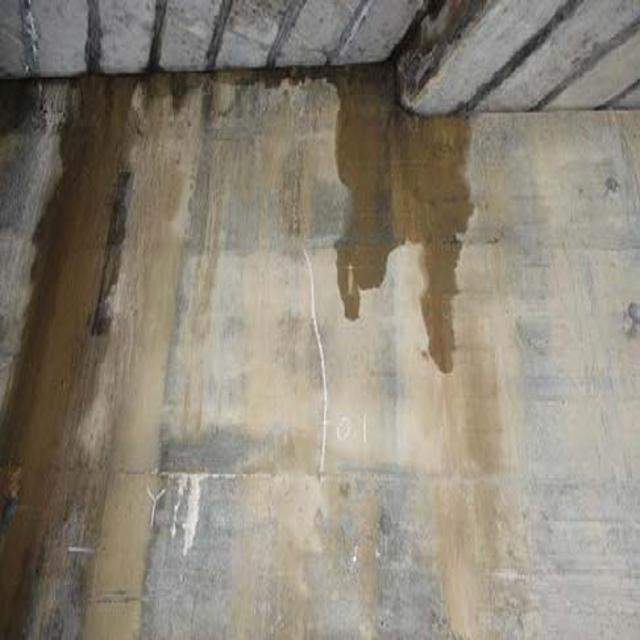leakage: (0, 75, 506, 604)
